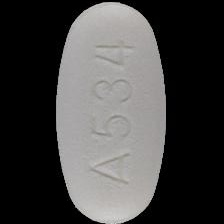10370-534: (0, 0, 224, 224)
